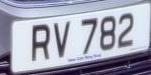2: (116, 10, 136, 53)
7: (78, 15, 100, 58)
8: (99, 13, 118, 56)
R: (29, 19, 54, 69)
V: (52, 17, 74, 63)
